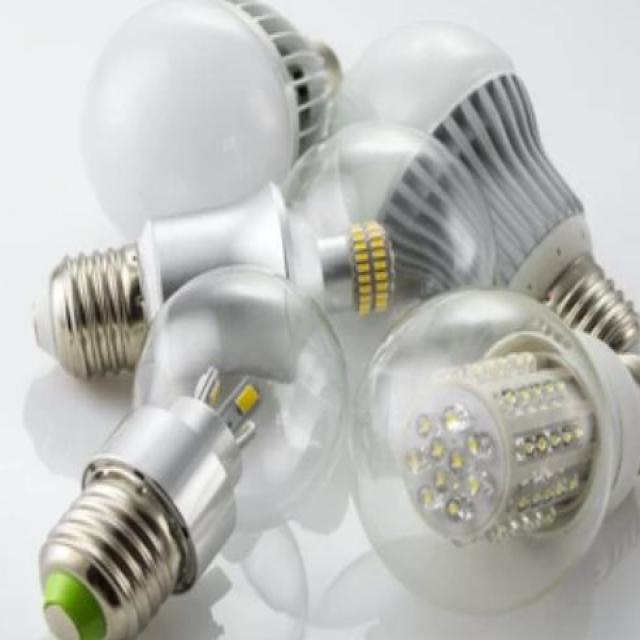electronic: (30, 0, 639, 638), (36, 262, 348, 638), (350, 285, 639, 616), (79, 0, 341, 242)
